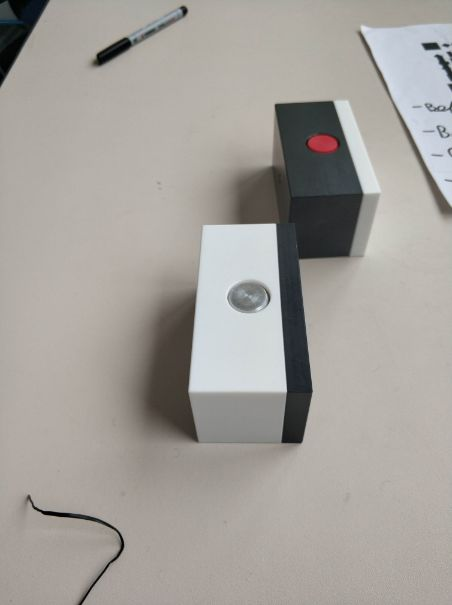black+white+silver: (186, 222, 315, 448)
white+black+red: (272, 98, 383, 262)
